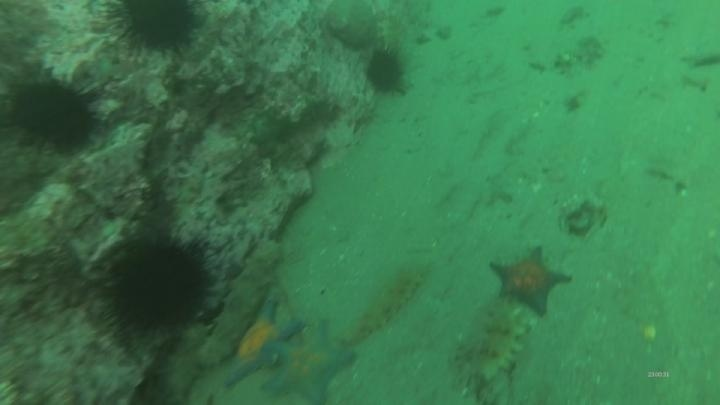echinus: (100, 232, 212, 341), (5, 72, 103, 156), (98, 1, 205, 58), (362, 45, 409, 97)
holothurian: (195, 236, 286, 369), (331, 253, 429, 348), (155, 319, 216, 405), (472, 298, 529, 387)
starfish: (260, 320, 357, 405), (222, 299, 307, 390), (487, 245, 573, 318)
